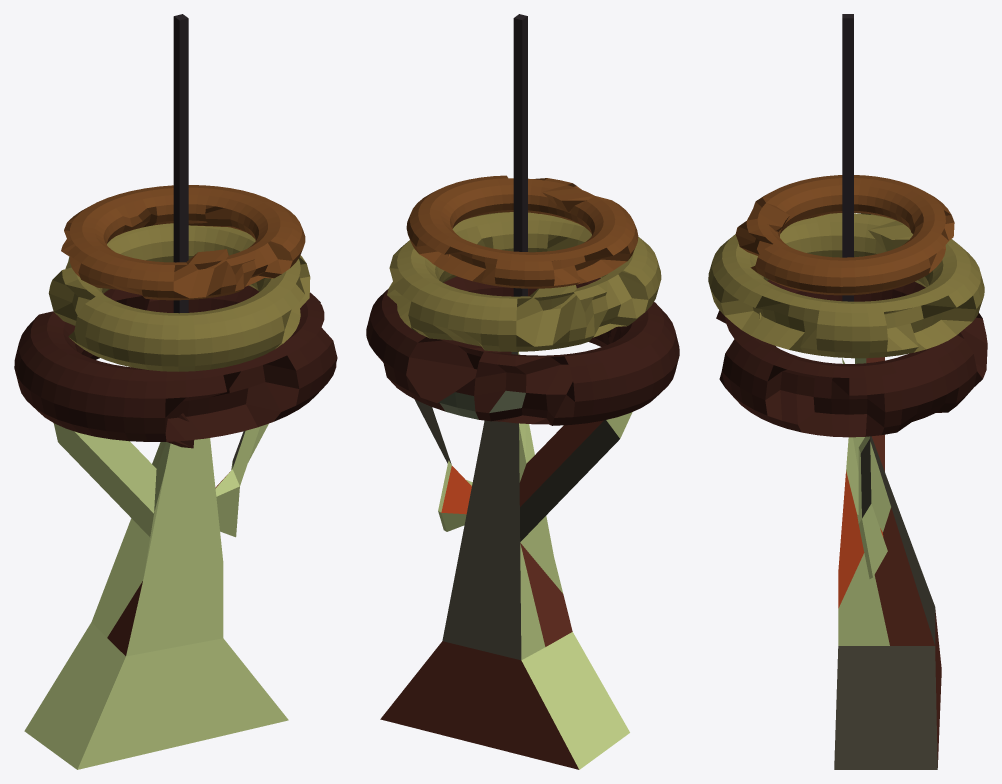
File: spaceneedle_destroyed.fbx
3 views of the same model, side by side, from view 1: azimuth 30°, elevation 25°; view 2: azimuth 150°, elevation 25°; view 3: azimuth 270°, elevation 25° (orthographic). The views are drawn at different scales.
Visible parts, largest first — view 1: Cube, Torus, Torus.001, Torus.002, Cube.001; view 2: Cube, Torus, Torus.001, Torus.002, Cube.001; view 3: Cube, Torus.001, Torus, Torus.002, Cube.001.
Boxes of the visible parts, x1,y1,x2,y2 form: Cube: (24, 423, 288, 769); Torus: (14, 285, 337, 448); Torus.001: (48, 223, 310, 371); Torus.002: (61, 185, 305, 300); Cube.001: (173, 14, 188, 313); Cube: (380, 352, 632, 769); Torus: (366, 276, 679, 425); Torus.001: (387, 212, 661, 351); Torus.002: (406, 175, 638, 288); Cube.001: (513, 14, 527, 296); Cube: (834, 357, 941, 769); Torus.001: (708, 213, 984, 358); Torus: (716, 280, 987, 437); Torus.002: (735, 175, 954, 295); Cube.001: (842, 14, 853, 301).
Size of the model in its own units: 1384 by 3287 by 1180.
